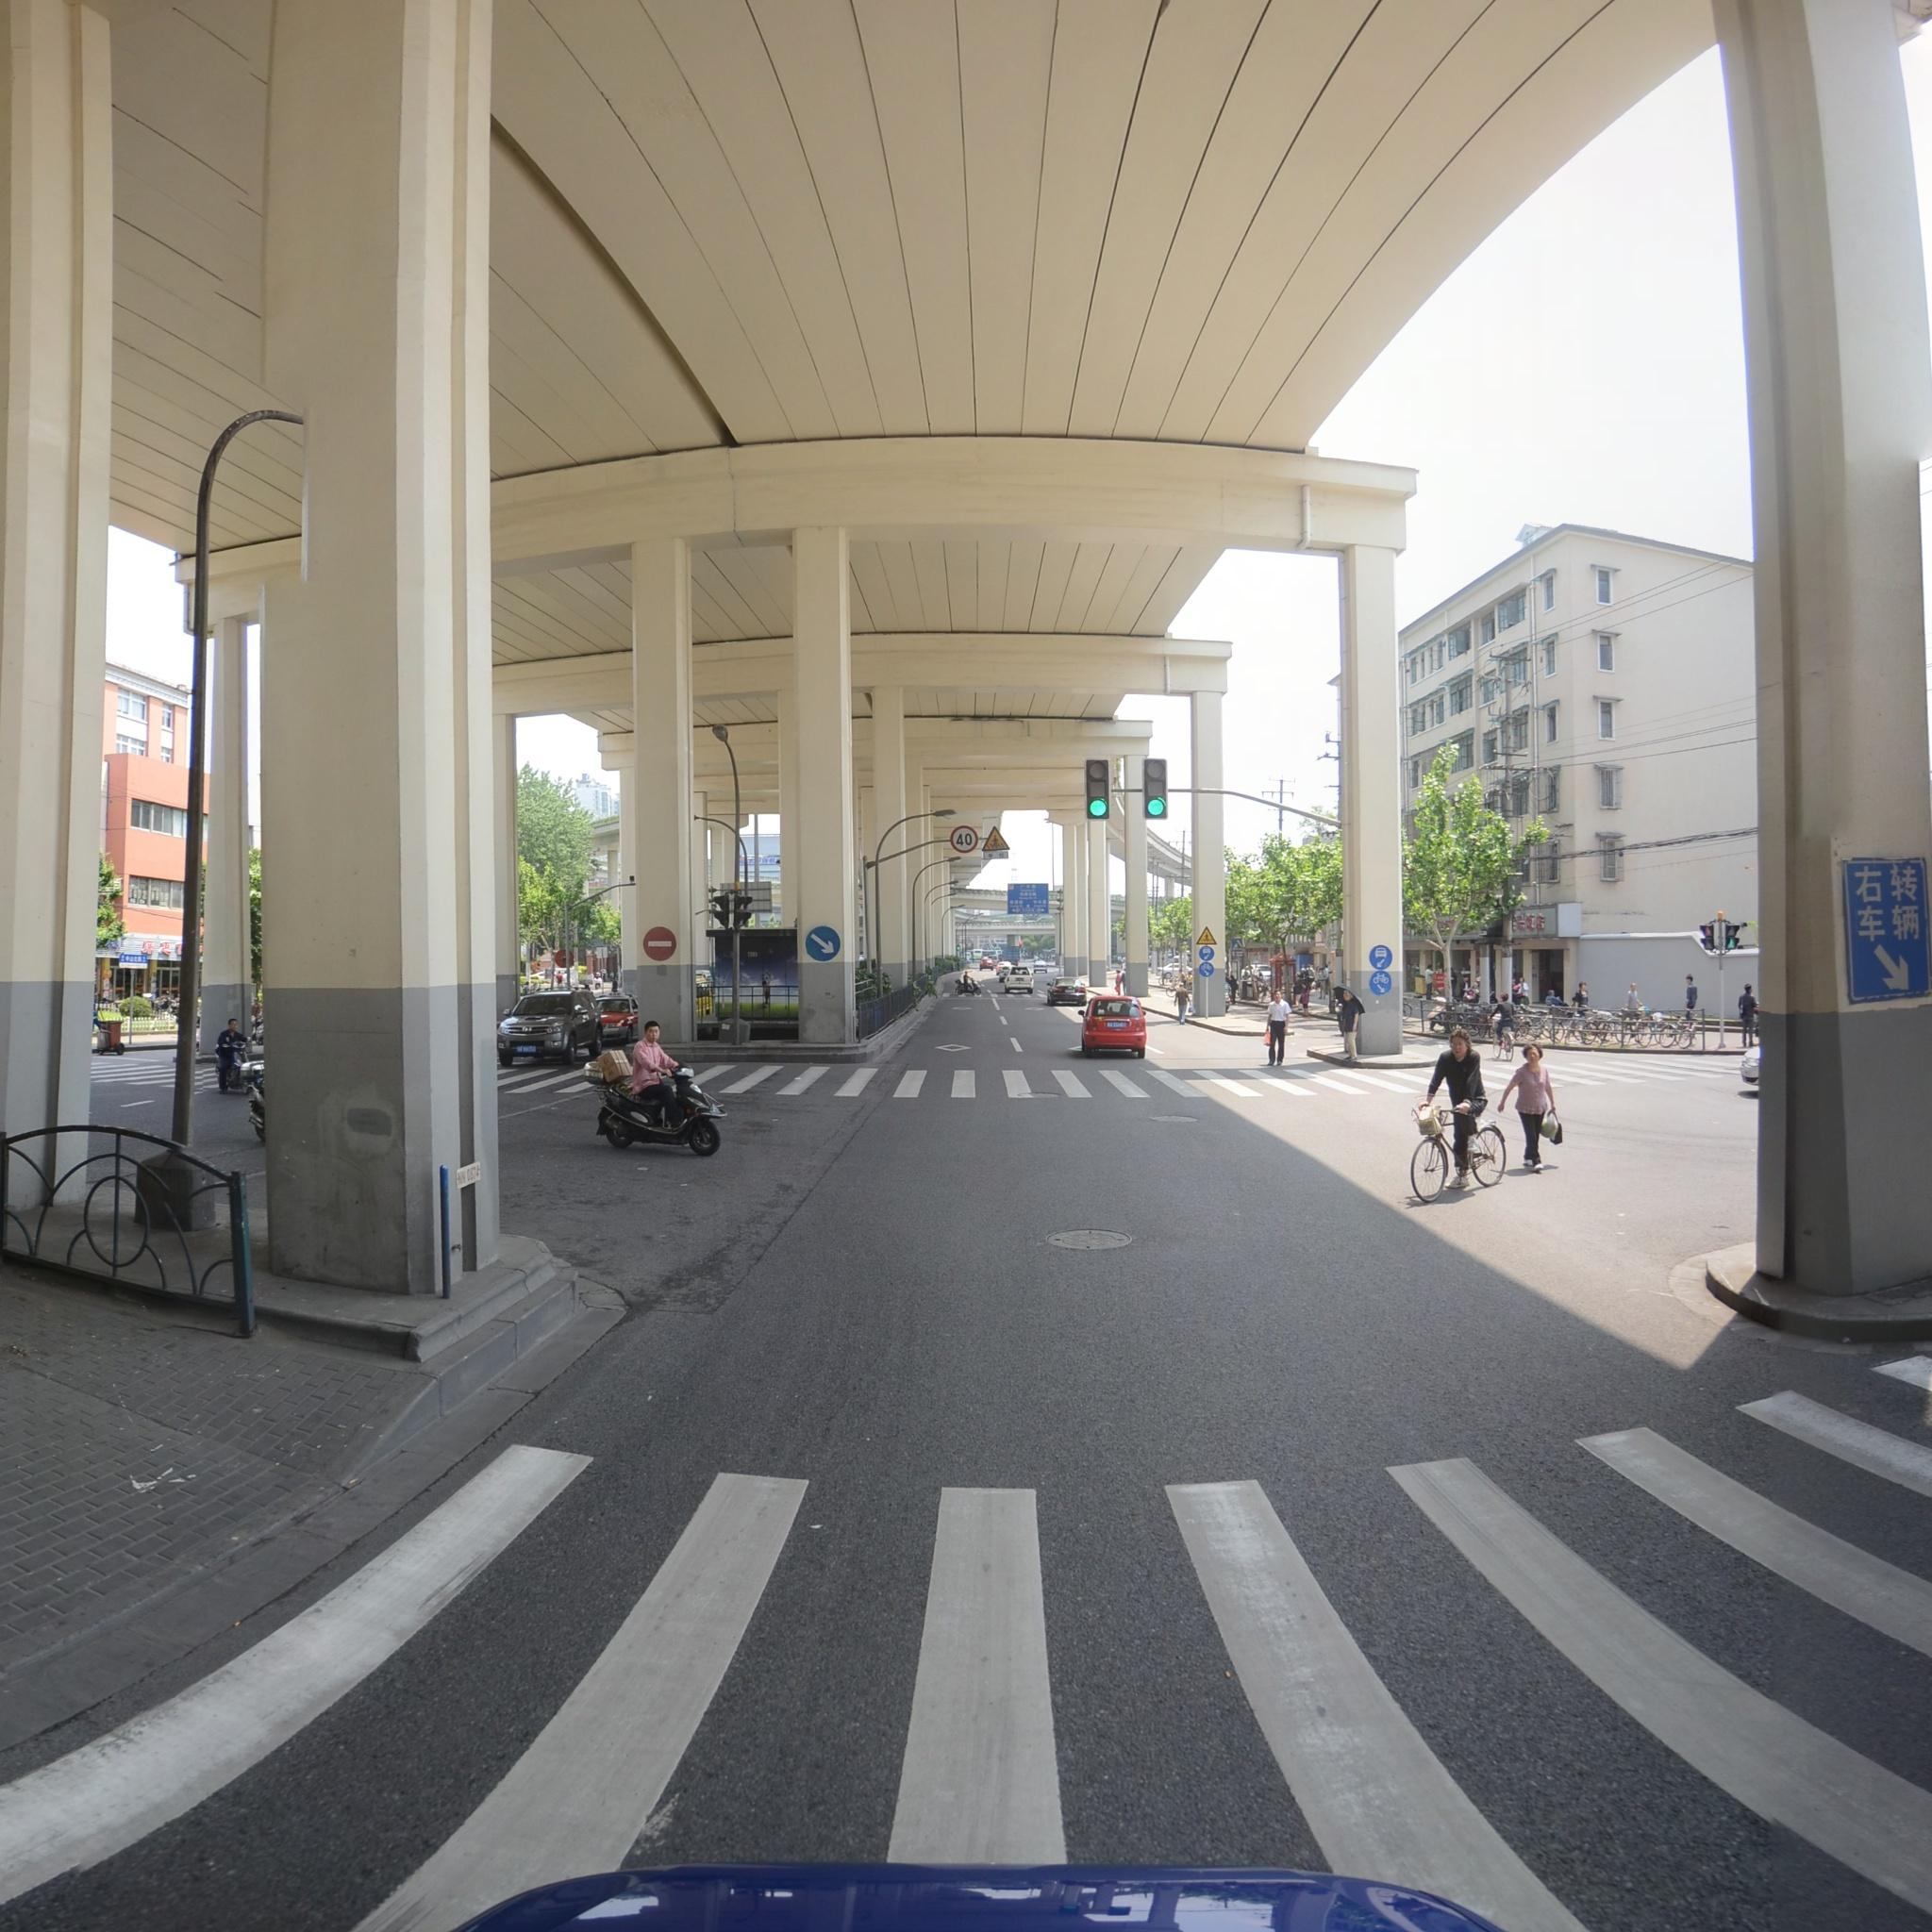i5: (809, 927, 842, 962)
pl40: (952, 826, 977, 851)
pne: (640, 927, 683, 962)
w57: (987, 824, 1005, 851)
